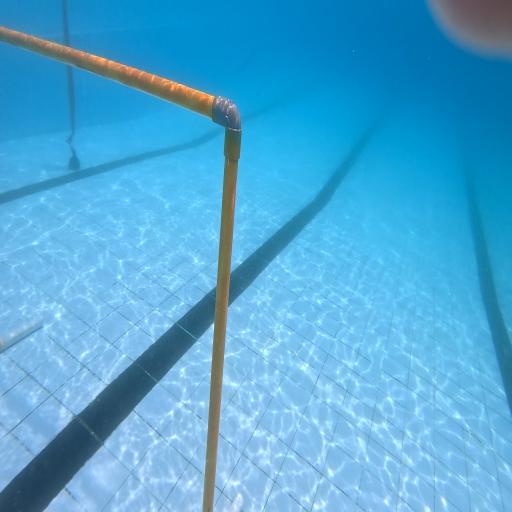gate: (0, 24, 242, 512)
